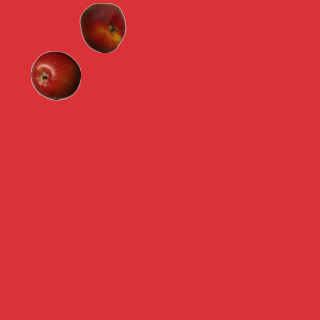Apple Braeburn: (30, 50, 80, 100)
Nectarine Flat: (77, 2, 127, 52)
